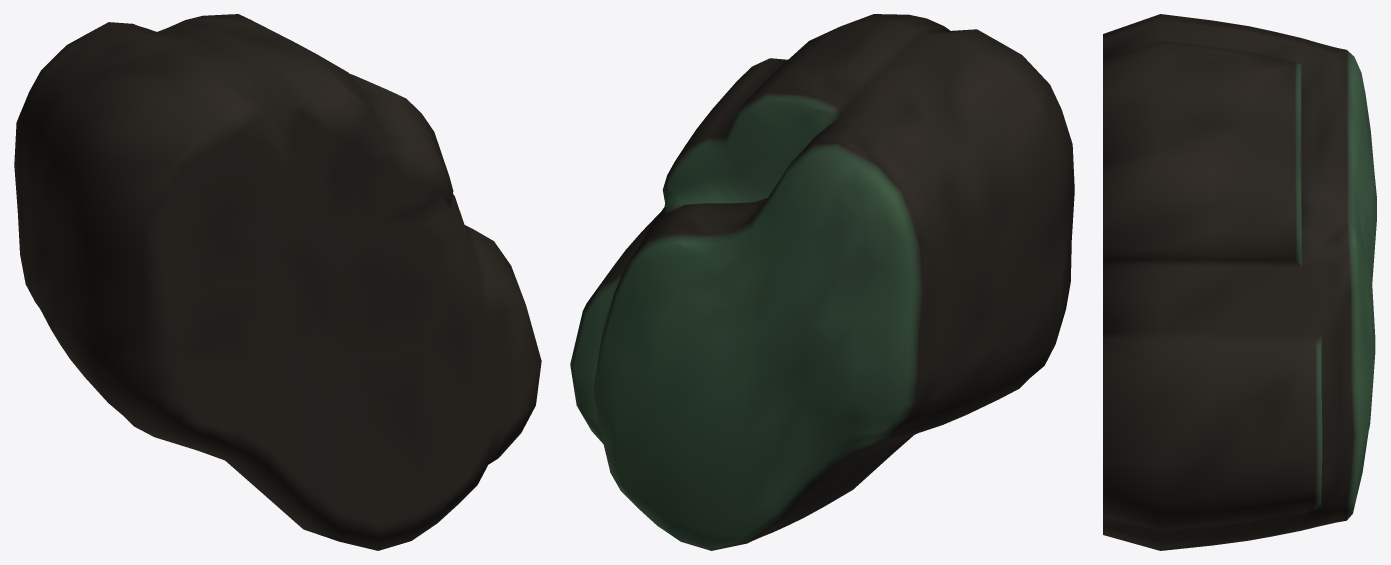
File: GreenHillLarge.003.glb
The picture shows the model from 3 angles, left to right: view 1: azimuth 30°, elevation 25°; view 2: azimuth 150°, elevation 25°; view 3: azimuth 270°, elevation 25°; orthographic projection. The views are drawn at different scales.
Parts seen in each view (by area): view 1: GreenHillLarge.003; view 2: GreenHillLarge.003; view 3: GreenHillLarge.003.
Part boxes in pixels (bbox=[...]): GreenHillLarge.003: bbox=[14, 14, 541, 550]; GreenHillLarge.003: bbox=[570, 14, 1074, 550]; GreenHillLarge.003: bbox=[1103, 14, 1376, 550].
Bounding box in the file's own units: 3810 × 4285 × 2350.
